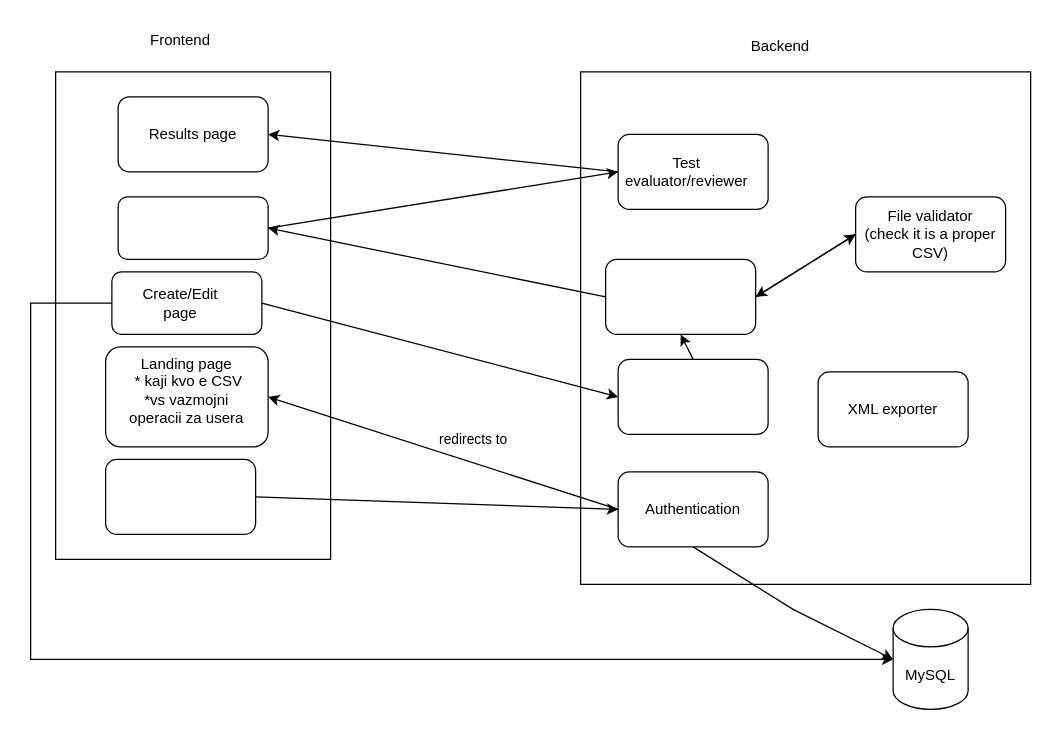
The diagram is 1053 pixels wide and 731 high, and some of its shapes have lost their labels. The centre of each missing label's shape, as x and y in pixels:
"CSV parser" belongs at pixel 680 296.
"Registration/Login" belongs at pixel 180 496.
"Serializaton/Deserialization service" belongs at pixel 692 396.
"View page (for solving)" belongs at pixel 192 227.
